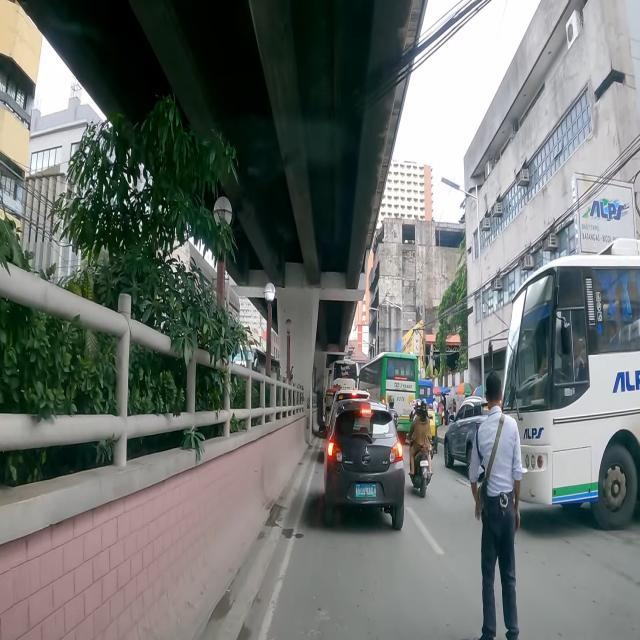bus: (503, 238, 640, 529), (358, 352, 418, 430), (331, 360, 359, 390), (418, 379, 433, 407)
car: (323, 400, 405, 530), (444, 396, 488, 468)
motorcycle: (410, 399, 432, 498), (427, 404, 437, 459), (388, 396, 399, 430)
